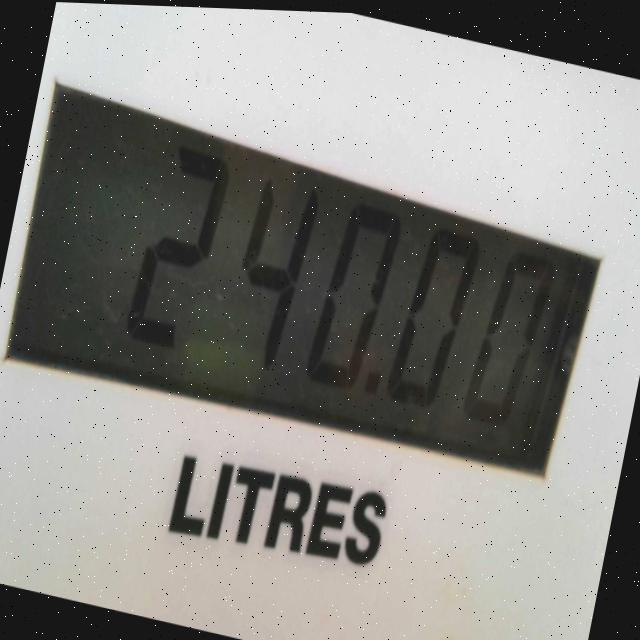.: (356, 353, 386, 414)
0: (294, 186, 406, 422), (374, 202, 484, 425), (454, 237, 558, 453)
2: (100, 130, 238, 356)
4: (215, 164, 322, 398)
